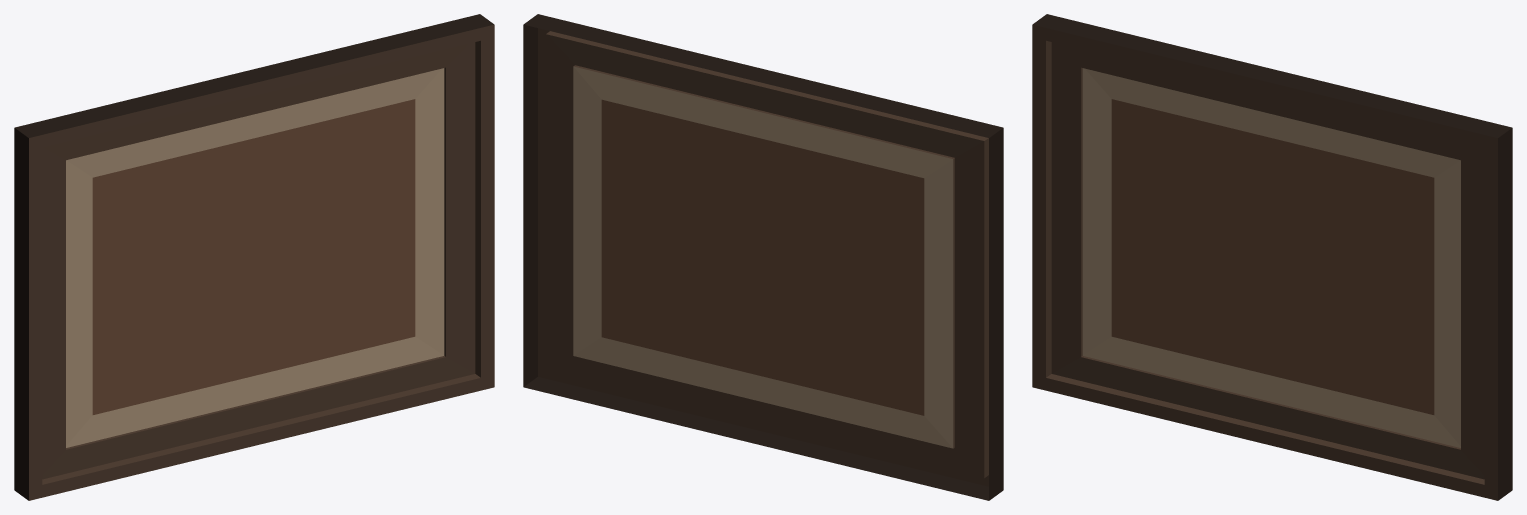
The model's file is Moldura.fbx.
3 views of the same model, side by side, from view 1: azimuth 30°, elevation 25°; view 2: azimuth 150°, elevation 25°; view 3: azimuth 330°, elevation 25° (orthographic).
Visible parts, largest first — view 1: Moldura; view 2: Moldura; view 3: Moldura.
Part boxes in pixels (x1,y1,x2,y2): Moldura: [14, 14, 494, 500]; Moldura: [523, 14, 1003, 500]; Moldura: [1032, 14, 1512, 500].
Size of the model in its own units: 79.07 by 58.86 by 4.25.
